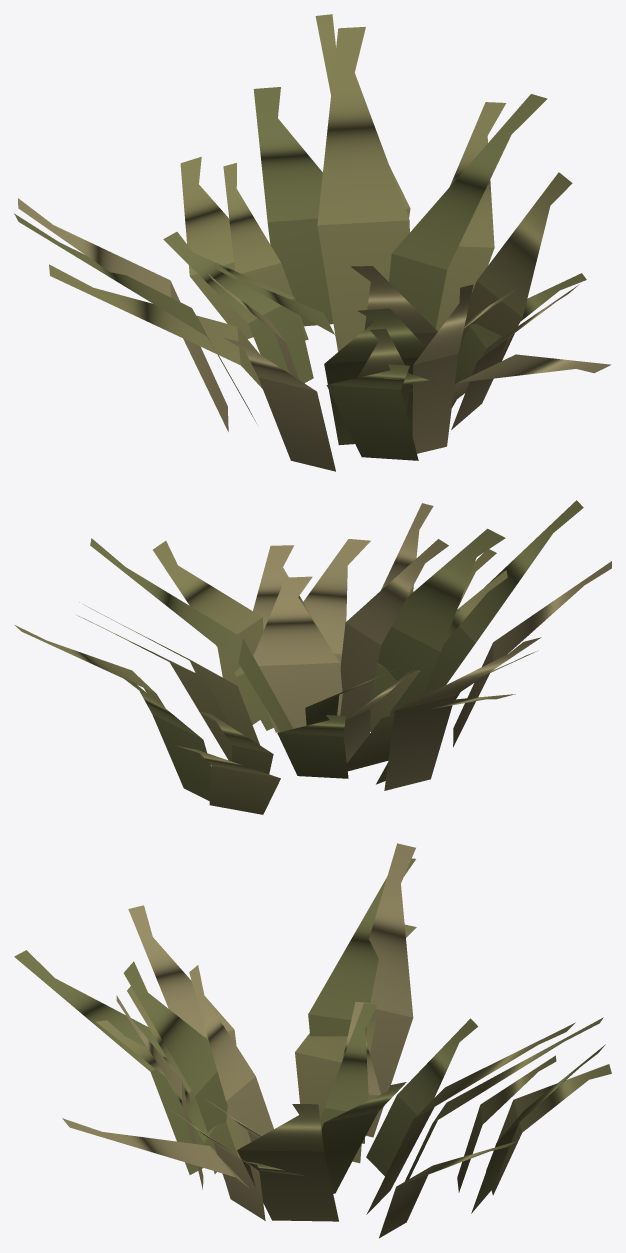
File: canyons-bank-cover-sculpted-ground-detail.glb
3 renders of one model, top to bottom at view 1: azimuth 30°, elevation 25°; view 2: azimuth 150°, elevation 25°; view 3: azimuth 270°, elevation 25°, orthographic. The views are drawn at different scales.
Visible parts, largest first — view 1: canyons-bank-cover-3d-ground-detail; view 2: canyons-bank-cover-3d-ground-detail; view 3: canyons-bank-cover-3d-ground-detail.
Boxes of the visible parts, x1,y1,x2,y2 form: canyons-bank-cover-3d-ground-detail: [14, 14, 611, 471]; canyons-bank-cover-3d-ground-detail: [15, 500, 611, 814]; canyons-bank-cover-3d-ground-detail: [14, 843, 611, 1238].
Size of the model in its own units: 0.5443 by 0.2288 by 0.5778.
